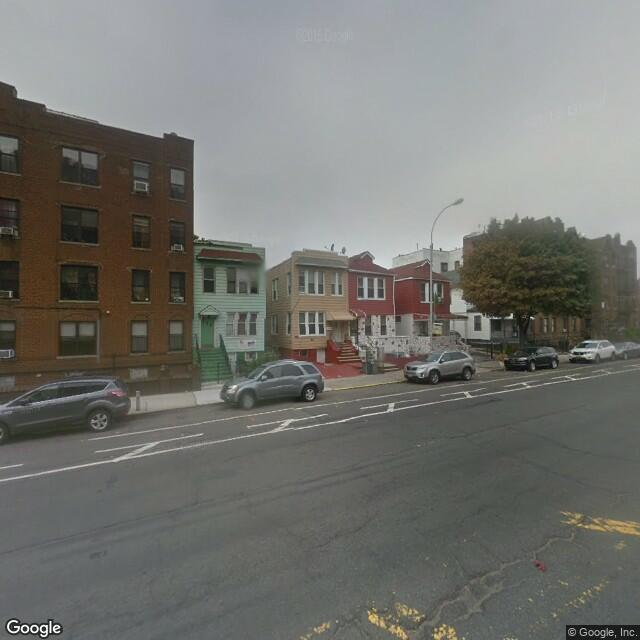litter: (532, 558, 547, 573)
